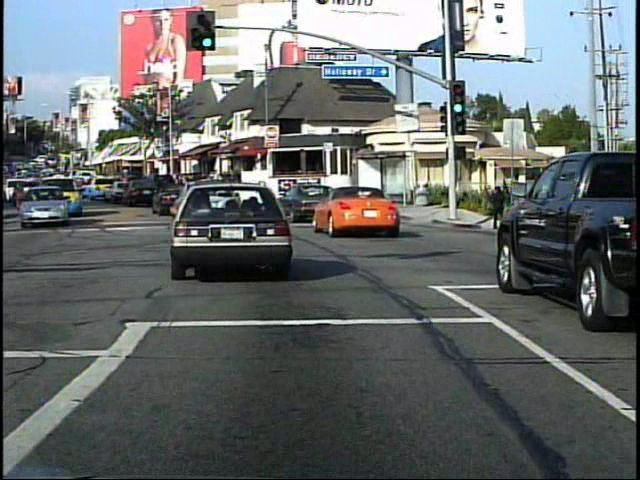person: (570, 186, 593, 247), (488, 182, 508, 230)
